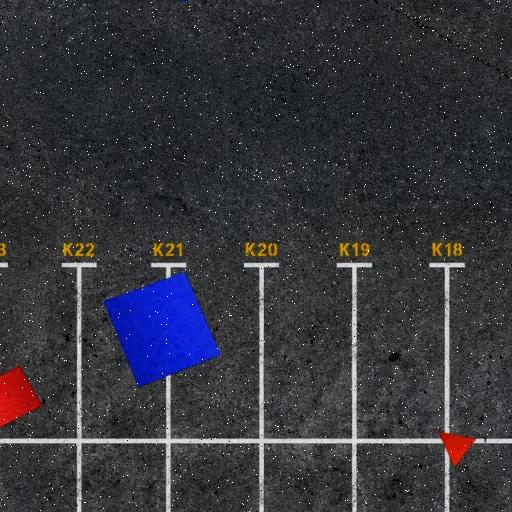BLUE_SQUARE: (102, 271, 222, 389)
RED_SQUARE: (0, 365, 43, 427)
